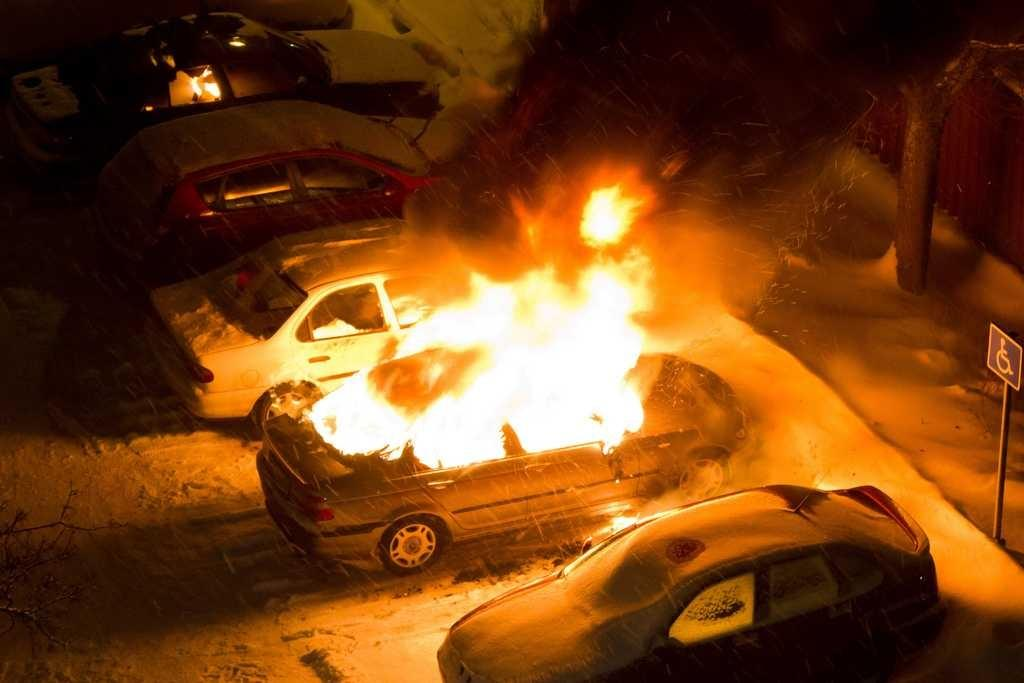fire: (490, 295, 635, 435), (323, 388, 395, 455), (423, 410, 480, 460)
